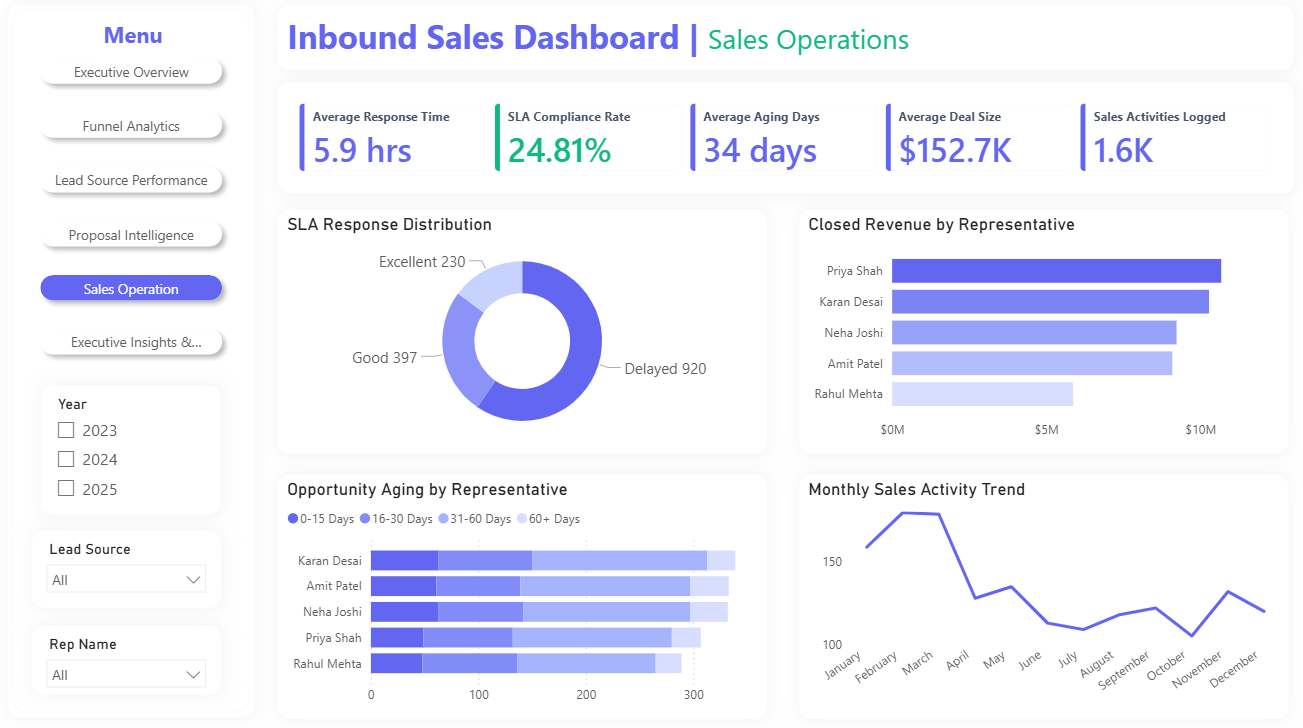

What the dashboard file says about the page in this screenshot:
{"tool":"powerbi","page":{"name":"Sales Operation","canvas":[1280,720],"ordinal":4},"visuals":[{"type":"shape","box":[11.5,10.1,242.4,698.3],"z":0},{"type":"cardVisual","fields":{"Data":["measure_table.Avg Response Time","measure_table.SLA Compliance Rate","measure_table.Avg Aging Days","measure_table.Avg Deal Size","measure_table.Activities Logged"]},"box":[275,85,995,110],"z":1000},{"type":"donutChart","title":"SLA Response Distribution","fields":{"Category":["gold fact_pipeline.response_sla_category"],"Y":["measure_table.Total Opportunities"]},"box":[275.7,210,480,240],"z":2000},{"type":"barChart","title":"Closed Revenue by Representative","fields":{"Category":["gold dim_representative.representative_name"],"Y":["measure_table.Closed Won Revenue"]},"box":[785,210,480,240],"z":3000},{"type":"barChart","title":"Opportunity Aging by Representative","fields":{"Category":["gold dim_representative.representative_name"],"Series":["gold fact_pipeline.aging_bucket"],"Y":["measure_table.Total Opportunities"]},"box":[275,470,480,240],"z":4000},{"type":"lineChart","title":"Monthly Sales Activity Trend","fields":{"Category":["gold dim_date.date_value.Variation.Date Hierarchy.Year","gold dim_date.date_value.Variation.Date Hierarchy.Quarter","gold dim_date.date_value.Variation.Date Hierarchy.Month","gold dim_date.date_value.Variation.Date Hierarchy.Day"],"Y":["measure_table.Activities Logged"]},"box":[785,470,480,240],"z":5000},{"type":"pageNavigator","box":[34.6,53.4,196.2,311.6],"z":6000},{"type":"slicer","fields":{"Values":["gold dim_date.date_value.Variation.Date Hierarchy.Year"]},"box":[43.3,382.3,177.5,127],"z":7000},{"type":"slicer","fields":{"Values":["gold dim_lead_source.lead_source"]},"box":[34.6,525.2,186.1,76.5],"z":8000},{"type":"slicer","fields":{"Values":["gold dim_representative.representative_name"]},"box":[34.6,617.5,186.1,67.8],"z":9000},{"type":"textbox","box":[100,20,90,45],"z":10000},{"type":"textbox","box":[275,10,995,65],"z":11000}]}

Visuals, with their boxes in screenshot pixels (x1, y1, x2, y2), scaled from the page's 1280x720 canvas onto the 1303x728 screenshot:
shape: l=12, t=10, r=258, b=716
cardVisual - measure_table.Avg Response Time x measure_table.SLA Compliance Rate: l=280, t=86, r=1293, b=197
"SLA Response Distribution" donutChart: l=281, t=212, r=769, b=455
"Closed Revenue by Representative" barChart: l=799, t=212, r=1288, b=455
"Opportunity Aging by Representative" barChart: l=280, t=475, r=769, b=718
"Monthly Sales Activity Trend" lineChart: l=799, t=475, r=1288, b=718
pageNavigator: l=35, t=54, r=235, b=369
slicer - gold dim_date.date_value.Variation.Date Hierarchy.Year: l=44, t=387, r=225, b=515
slicer - gold dim_lead_source.lead_source: l=35, t=531, r=225, b=608
slicer - gold dim_representative.representative_name: l=35, t=624, r=225, b=693
textbox: l=102, t=20, r=193, b=66
textbox: l=280, t=10, r=1293, b=76
